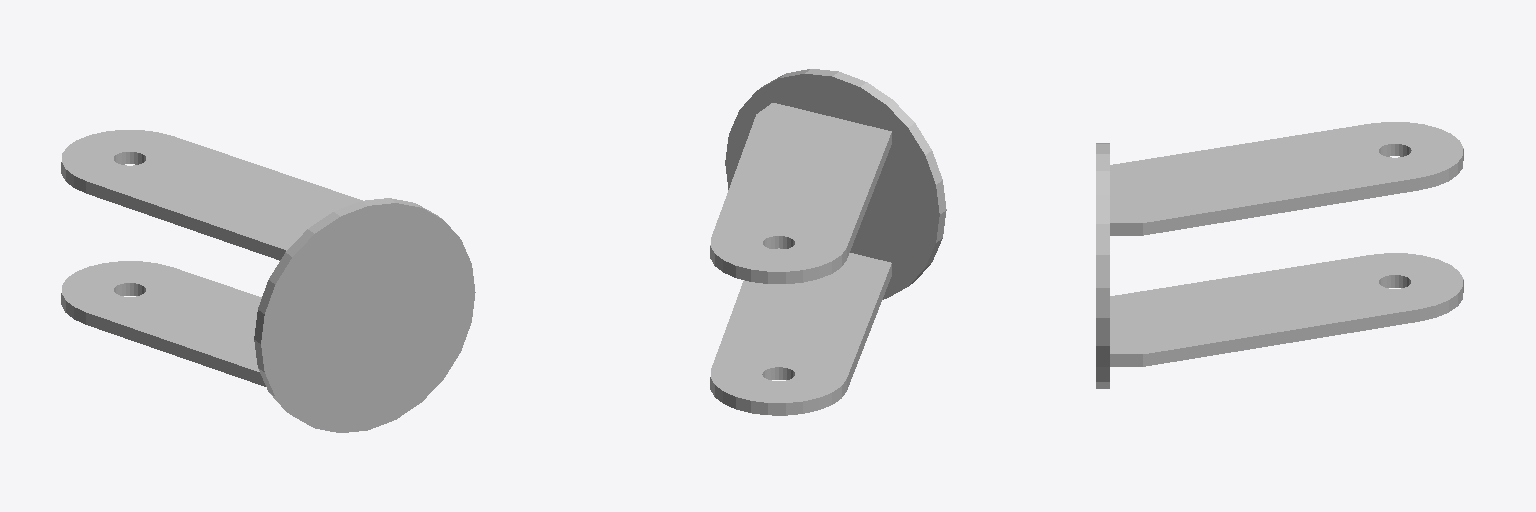
File: caster_raceway_link_Part_2_Part_2.obj
The picture shows the model from 3 angles: view 1: azimuth 30°, elevation 25°; view 2: azimuth 150°, elevation 25°; view 3: azimuth 270°, elevation 25°; orthographic projection.
Size of the model in its own units: 0.1072 by 0.09 by 0.1334.